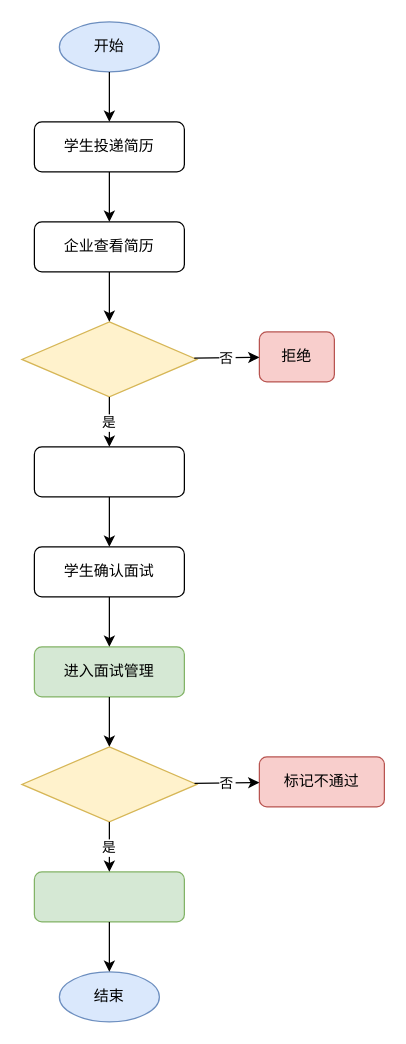
The diagram is 406 pixels wide and 1044 high, and some of its shapes have lost their labels. Here are the shapes that lost their labels. From the top down, the box of each, then its label:
(21, 321, 197, 397): 是否邀请面试？
(33, 446, 184, 497): 发送面试邀请
(21, 746, 197, 822): 面试是否通过？
(33, 871, 184, 922): 标记已录用
